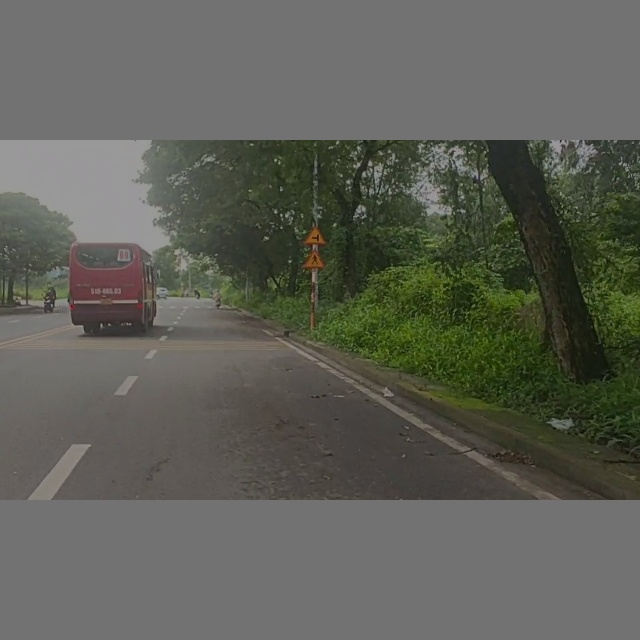W.205c: (302, 223, 331, 246)
W.224: (300, 247, 329, 271)
